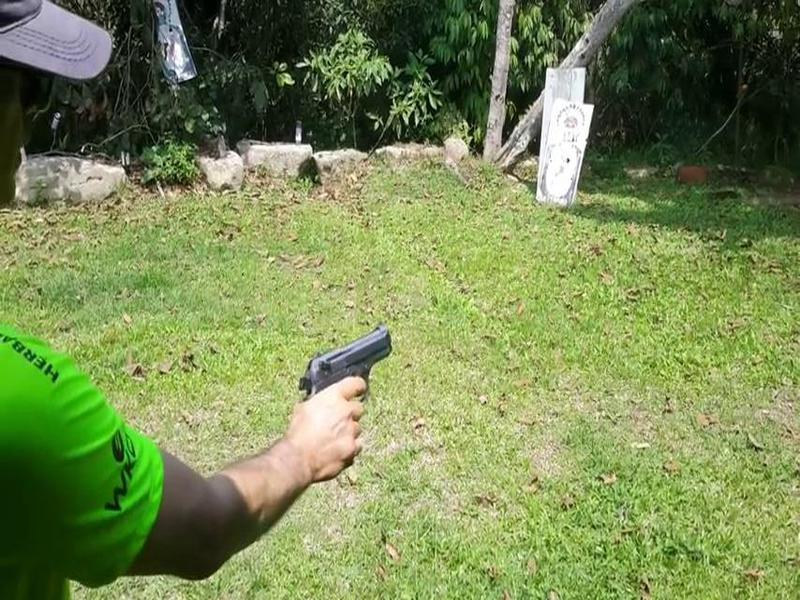Pistola: (292, 316, 398, 430)
